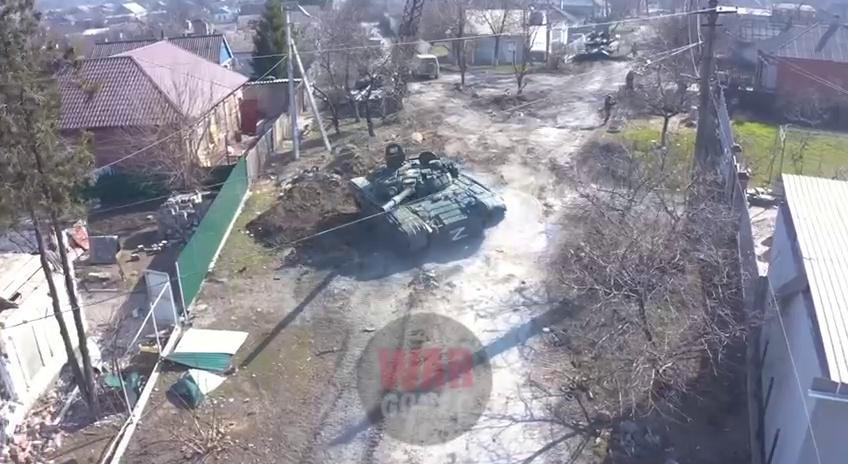tank: (349, 144, 506, 254)
